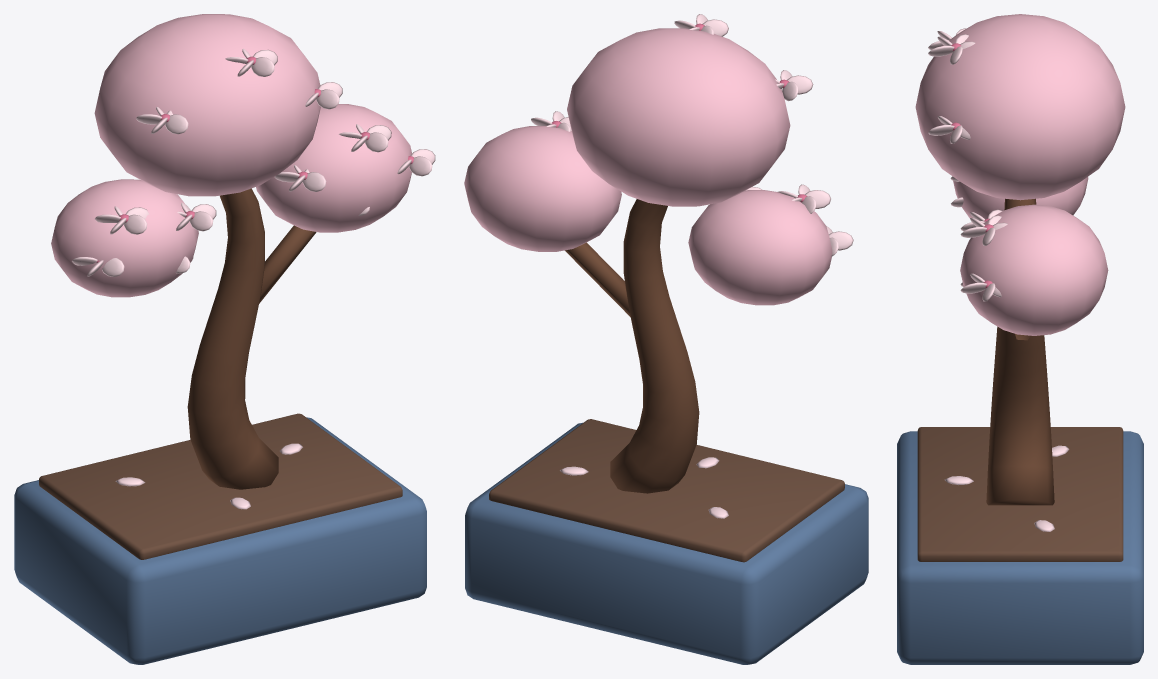
File: cherry-bonsai.glb
3 renders of one model, left to right at view 1: azimuth 30°, elevation 25°; view 2: azimuth 150°, elevation 25°; view 3: azimuth 270°, elevation 25°, orthographic. The views are drawn at different scales.
Visible parts, largest first — view 1: bonsai; view 2: bonsai; view 3: bonsai.
Part boxes in pixels (box(x1,y1,x2,y2)): bonsai: box(14, 14, 435, 664); bonsai: box(464, 14, 868, 664); bonsai: box(897, 14, 1143, 664).
Size of the model in its own units: 0.6021 by 0.9075 by 0.36.
